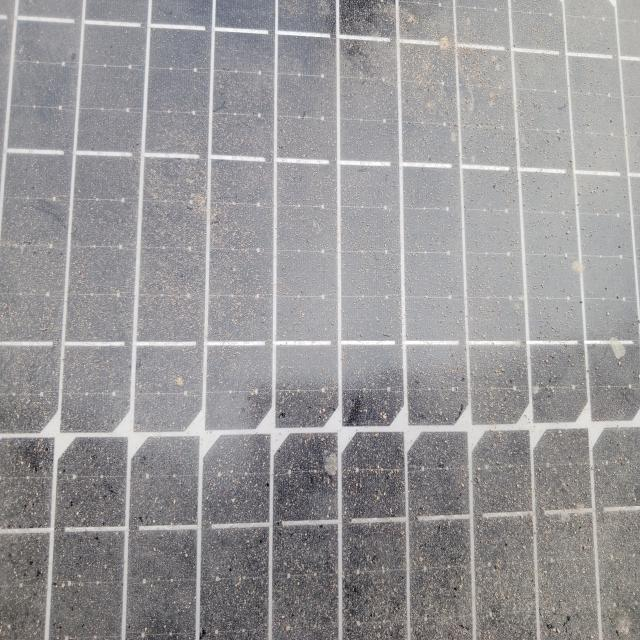Surface Contaminant: (9, 12, 623, 629)
